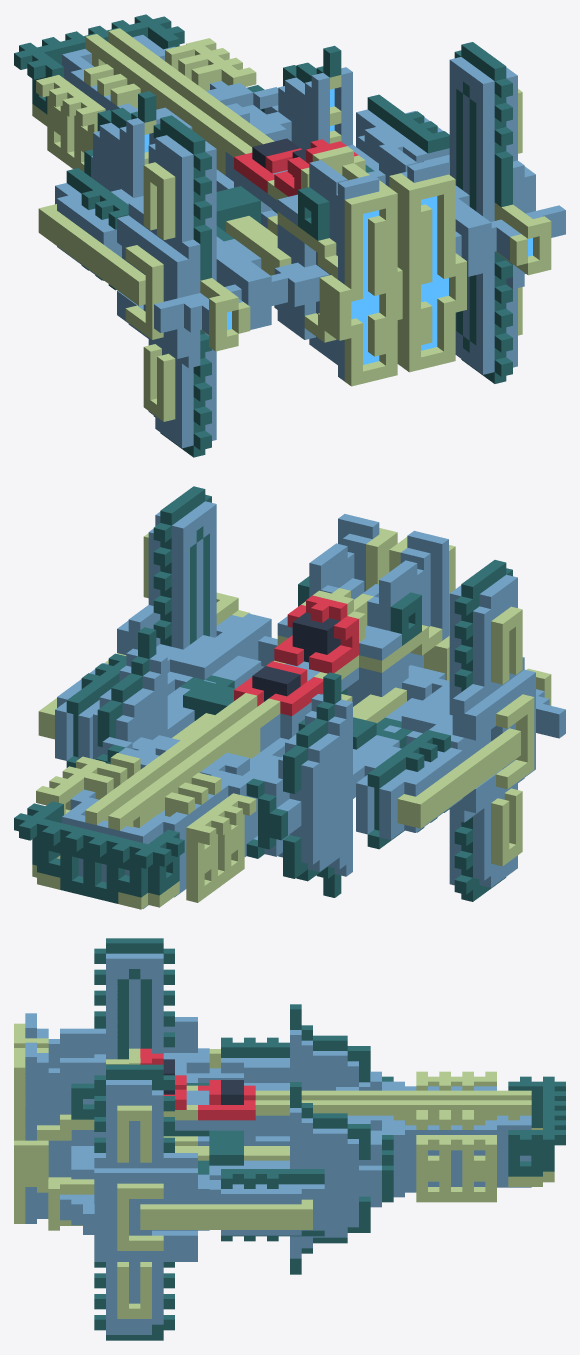
The model's file is gemini-drive.glb.
The picture shows the model from 3 angles, top to bottom: view 1: azimuth 30°, elevation 25°; view 2: azimuth 150°, elevation 25°; view 3: azimuth 270°, elevation 25°; orthographic projection. The views are drawn at different scales.
Visible parts, largest first — view 1: 3; view 2: 3; view 3: 3.
Part boxes in pixels (<box>): 3: <box>14,14,565,457</box>; 3: <box>14,486,565,909</box>; 3: <box>14,938,565,1340</box>.
Size of the model in its own units: 35 by 26 by 48.
Materials: 6 (6 with a texture image).
